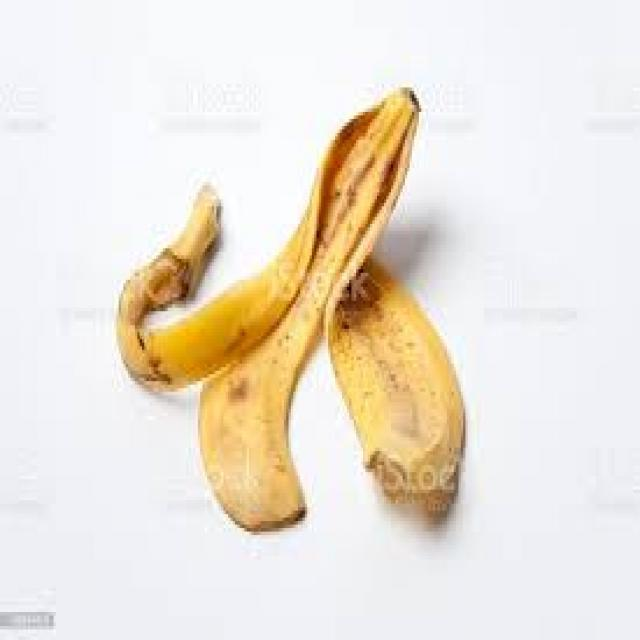banana-peel: (115, 84, 465, 533), (325, 255, 466, 518), (114, 179, 223, 392)
